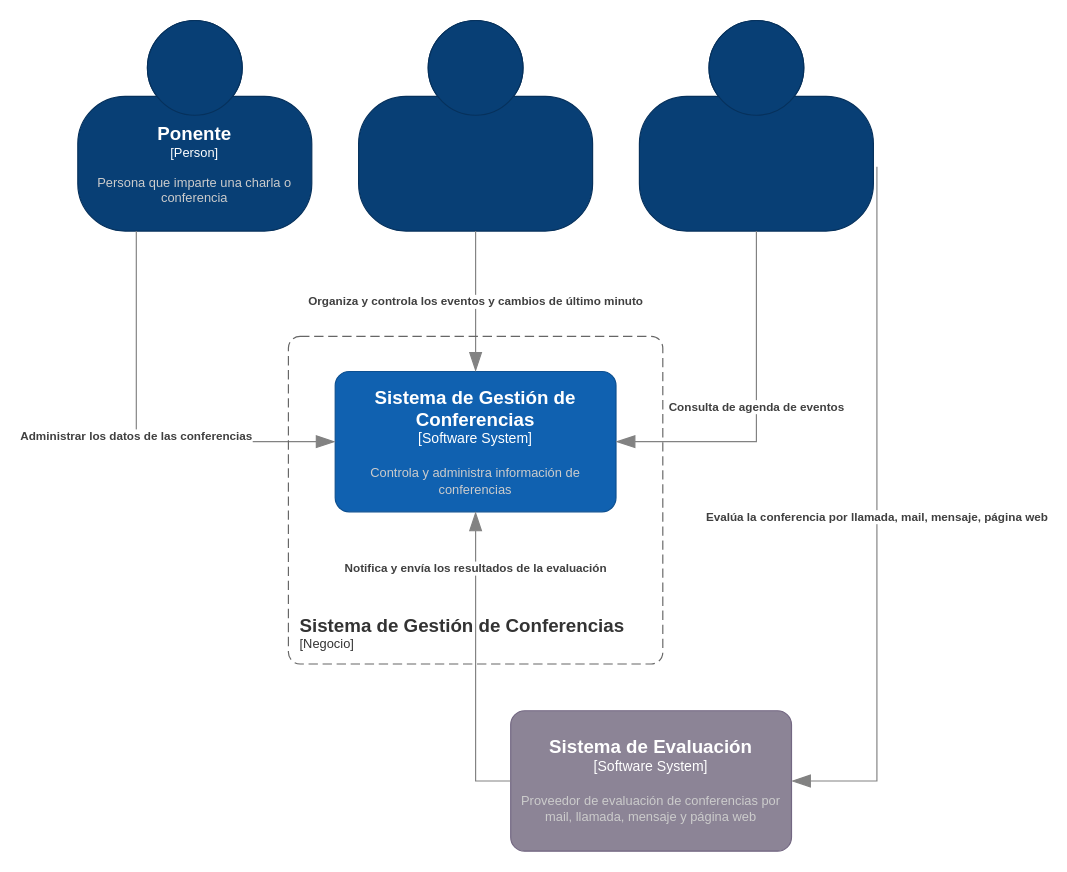
The diagram is 1067 pixels wide and 872 high, and some of its shapes have lost their labels. Here are the shapes that lost their labels. From the top down, the centre of each, then its label:
the point at 475,125: Organizador [Person] Administra y controla la logística
the point at 755,125: Asistente [Person] Persona que se encuentra inscrito en un evento
